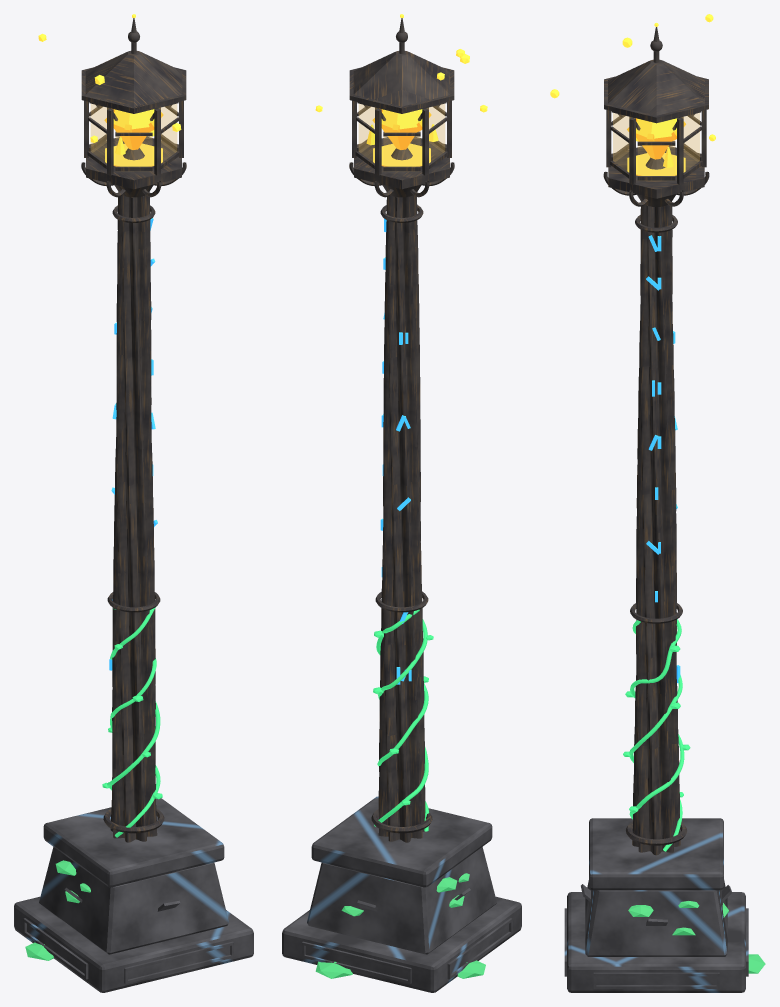
The model's file is whisperlight-lantern.glb.
The picture shows the model from 3 angles, left to right: view 1: azimuth 30°, elevation 25°; view 2: azimuth 150°, elevation 25°; view 3: azimuth 270°, elevation 25°; orthographic projection.
Parts seen in each view (by area): view 1: Pedestal, Shaft, LanternHead, GlassPanes, Crystal, Vines, MossPatches; view 2: Pedestal, Shaft, LanternHead, GlassPanes, Crystal, Vines, MossPatches, Runes; view 3: Pedestal, Shaft, LanternHead, GlassPanes, Crystal, Vines, Runes, MossPatches.
Part boxes in pixels (left/top/right/bottom): Pedestal: left=14, top=798, right=253, bottom=992; Shaft: left=103, top=192, right=164, bottom=842; LanternHead: left=81, top=18, right=186, bottom=197; GlassPanes: left=91, top=104, right=176, bottom=165; Crystal: left=104, top=14, right=163, bottom=166; Vines: left=102, top=607, right=162, bottom=837; MossPatches: left=25, top=860, right=90, bottom=960; Pedestal: left=282, top=796, right=521, bottom=992; Shaft: left=371, top=195, right=432, bottom=842; LanternHead: left=349, top=18, right=454, bottom=197; GlassPanes: left=359, top=104, right=444, bottom=165; Crystal: left=366, top=14, right=438, bottom=166; Vines: left=373, top=609, right=433, bottom=831; MossPatches: left=315, top=873, right=485, bottom=978; Runes: left=380, top=218, right=411, bottom=684; Pedestal: left=564, top=818, right=748, bottom=992; Shaft: left=626, top=205, right=687, bottom=855; LanternHead: left=603, top=27, right=709, bottom=206; GlassPanes: left=613, top=113, right=699, bottom=175; Crystal: left=627, top=23, right=685, bottom=175; Vines: left=623, top=619, right=690, bottom=851; Runes: left=646, top=235, right=680, bottom=683; MossPatches: left=628, top=901, right=765, bottom=973.
Size of the model in its own units: 1.01 by 5.2 by 1.08.
10 materials, 2 textured.
